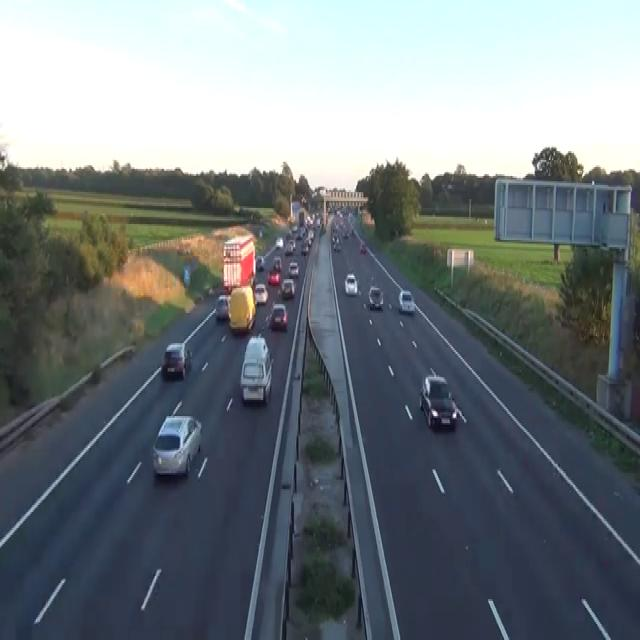Car: (152, 414, 202, 476), (240, 336, 272, 404), (419, 374, 457, 431), (161, 341, 191, 379), (268, 302, 287, 329), (398, 290, 415, 313), (368, 284, 383, 310), (215, 293, 229, 320), (344, 272, 358, 295), (280, 277, 295, 297), (254, 283, 268, 304), (287, 260, 299, 278), (267, 268, 280, 284), (176, 244, 191, 254), (183, 267, 190, 286), (256, 254, 264, 270), (273, 256, 282, 270), (332, 237, 341, 250), (284, 242, 293, 254), (275, 236, 283, 249), (288, 238, 296, 249), (359, 242, 366, 252), (301, 244, 308, 254), (331, 233, 338, 243), (208, 285, 215, 295), (291, 224, 297, 233), (343, 228, 348, 238), (300, 196, 306, 204), (258, 228, 262, 238)
Truck: (222, 233, 256, 293), (228, 284, 256, 332)
